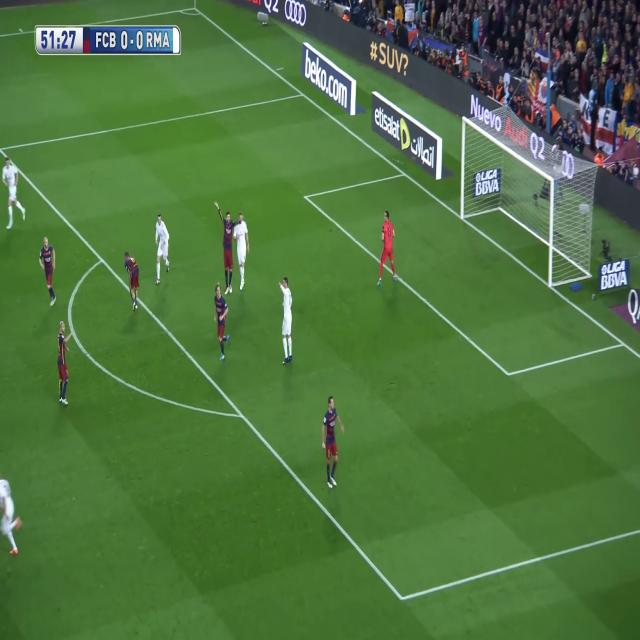GoalKeeper: (378, 212, 398, 288)
TEAM 1: (214, 202, 236, 288), (322, 399, 342, 489), (38, 235, 57, 306), (56, 324, 70, 408), (216, 284, 231, 359), (124, 253, 141, 313)
TEAM 2: (1, 476, 24, 557), (1, 159, 28, 227), (276, 276, 294, 366), (235, 206, 251, 291), (154, 213, 172, 280)
